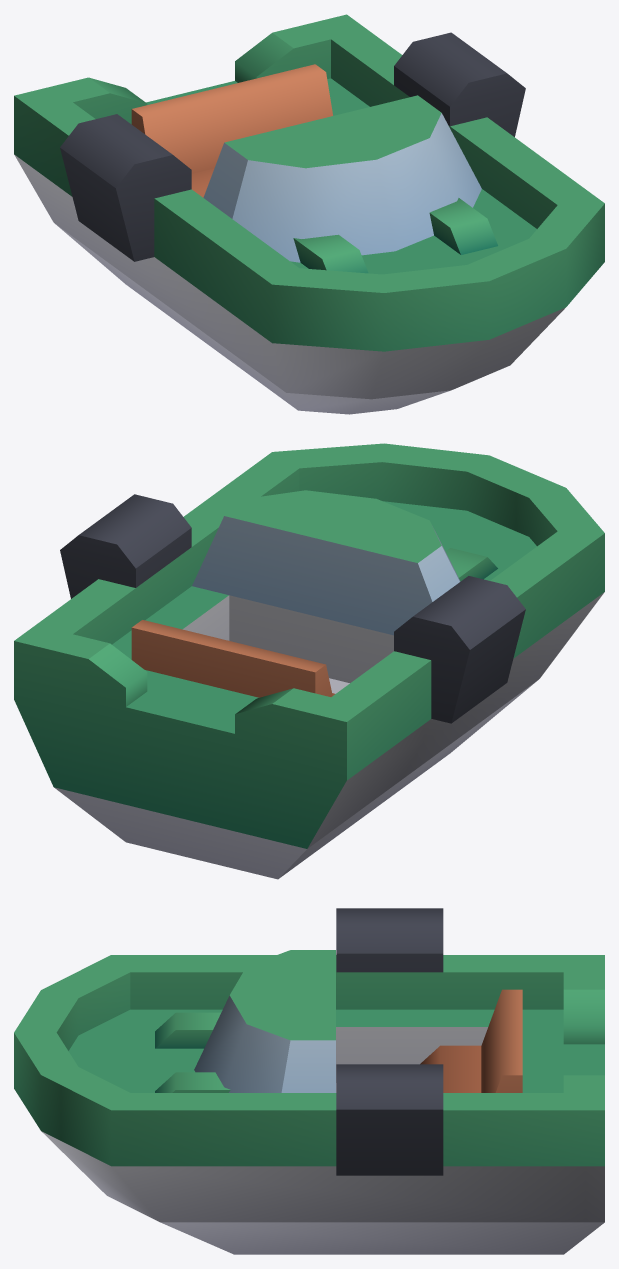
Rendered from boat-speed-f.glb.
3 views of the same model, one above another, from view 1: azimuth 30°, elevation 25°; view 2: azimuth 150°, elevation 25°; view 3: azimuth 270°, elevation 25° (orthographic). The views are drawn at different scales.
Parts seen in each view (by area): view 1: boat-speed-f; view 2: boat-speed-f; view 3: boat-speed-f.
Part boxes in pixels (x1,y1,x2,y2): boat-speed-f: (14, 14, 604, 414); boat-speed-f: (14, 443, 604, 879); boat-speed-f: (14, 908, 604, 1254).
Bounding box in the file's own units: 2.2 × 1.2 × 2.87.
